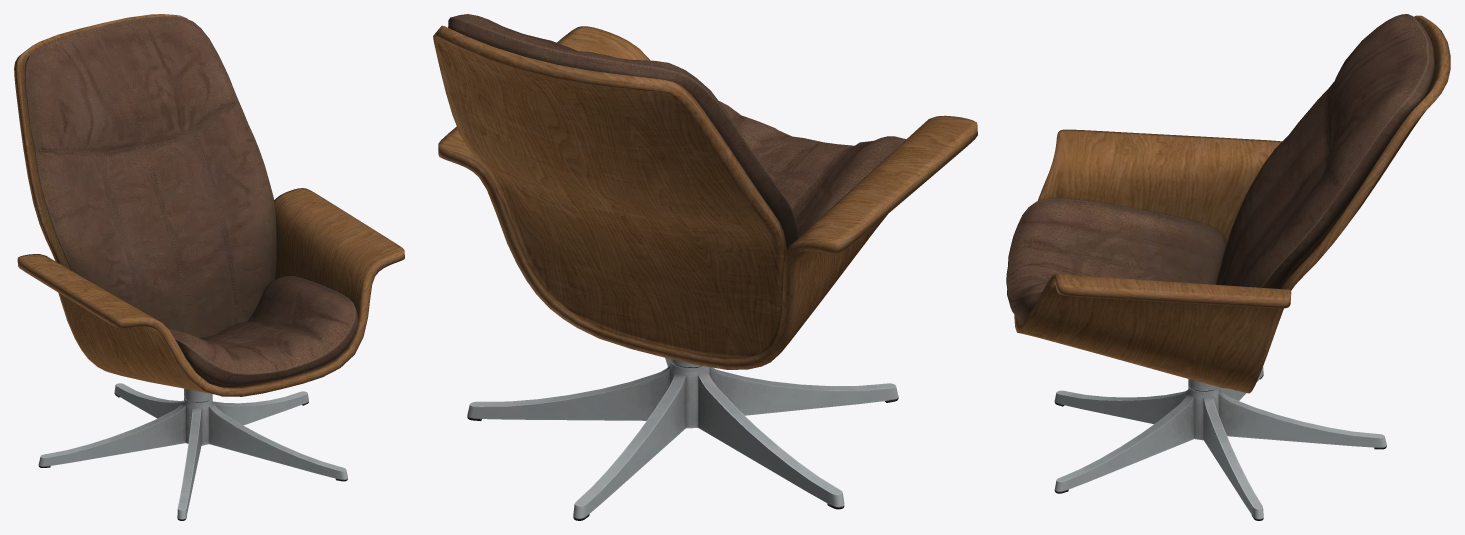
File: mid_century_lounge_chair.glb
3 views of the same model, side by side, from view 1: azimuth 30°, elevation 25°; view 2: azimuth 150°, elevation 25°; view 3: azimuth 270°, elevation 25° (orthographic). The views are drawn at different scales.
Visible parts, largest first — view 1: mid_century_lounge_chair; view 2: mid_century_lounge_chair; view 3: mid_century_lounge_chair.
Part boxes in pixels (x1=…): mid_century_lounge_chair: x1=14, y1=14, x2=404, y2=520; mid_century_lounge_chair: x1=433, y1=14, x2=977, y2=520; mid_century_lounge_chair: x1=1006, y1=14, x2=1450, y2=520.
Size of the model in its own units: 1.01 by 1.17 by 1.19.
Materials: 1 (1 with a texture image).
